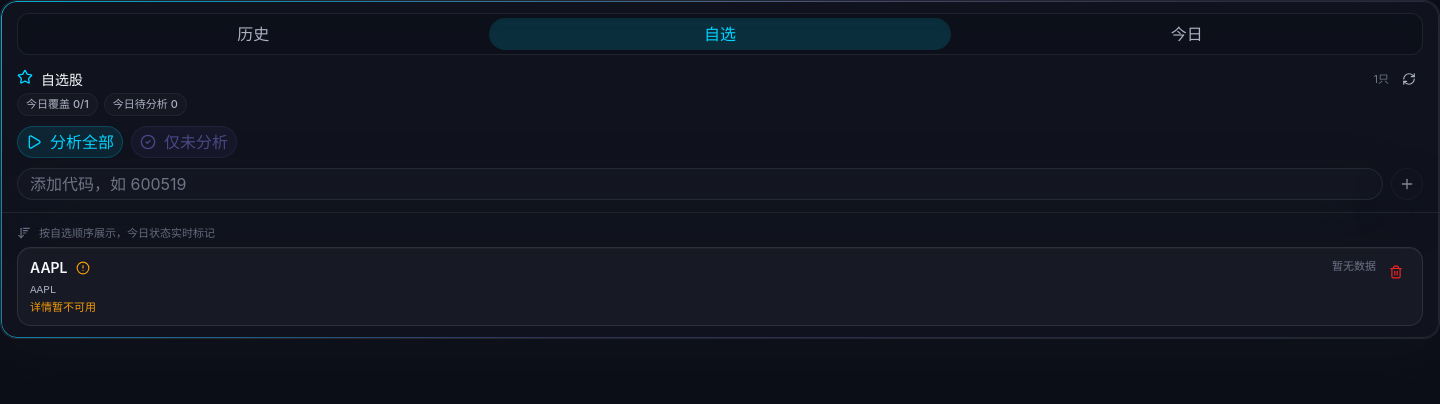
Test case: HomeStockWorkspace › shows retry feedback instead of no-detail copy when the latest detail lookup failed
Click the button with aria-label "AAPL 的最新分析详情暂时无法确认，请稍后重试" at point(49, 268), box [30,258,1324,315]
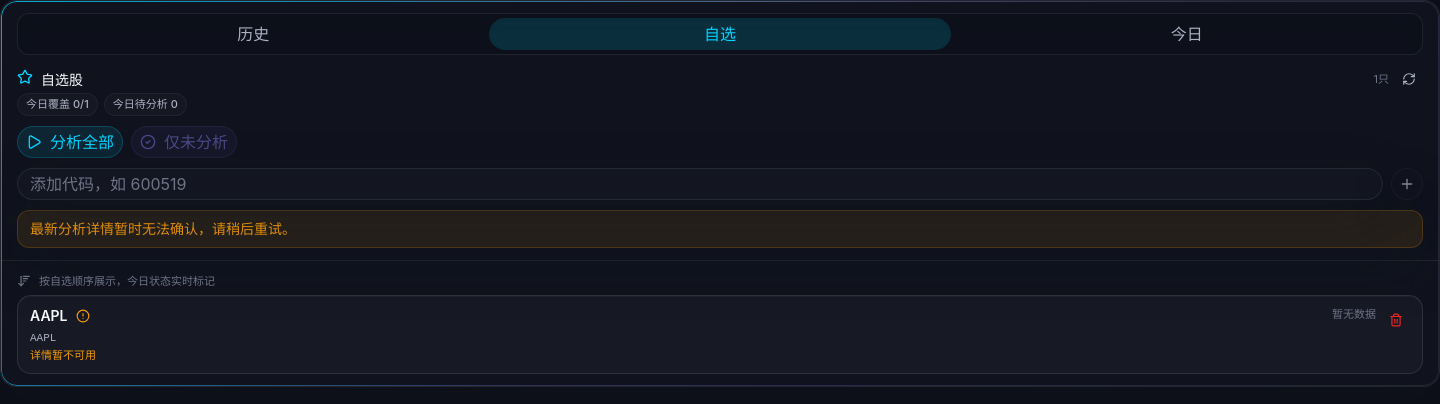
Expected: the text "详情暂不可用" is shown, [30,346,96,363]
Expected: the message reads "最新分析详情暂时无法确认，请稍后重试。", [30,220,296,236]
